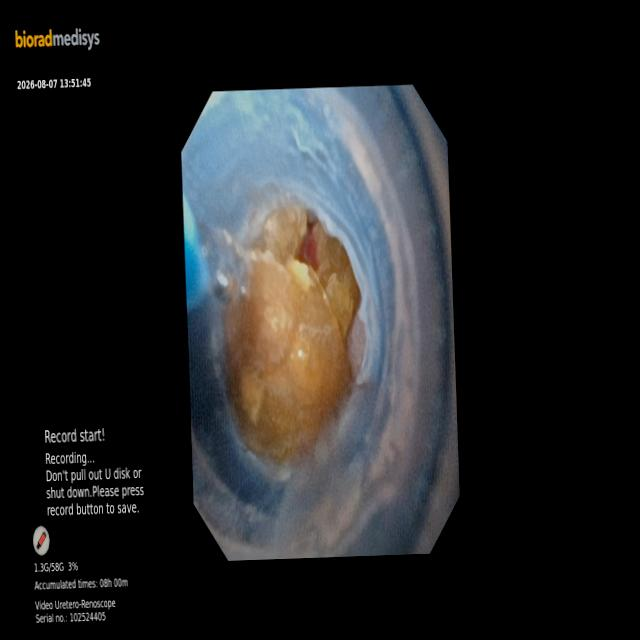laser-fibre: (196, 221, 250, 300)
stone-new: (225, 251, 353, 461), (255, 204, 307, 264), (312, 222, 350, 287)
